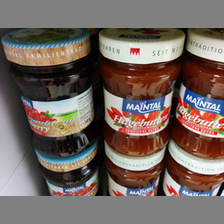jam: (1, 29, 99, 158), (98, 29, 186, 155), (172, 30, 224, 159), (104, 144, 167, 196), (34, 147, 100, 196), (161, 147, 224, 195)
